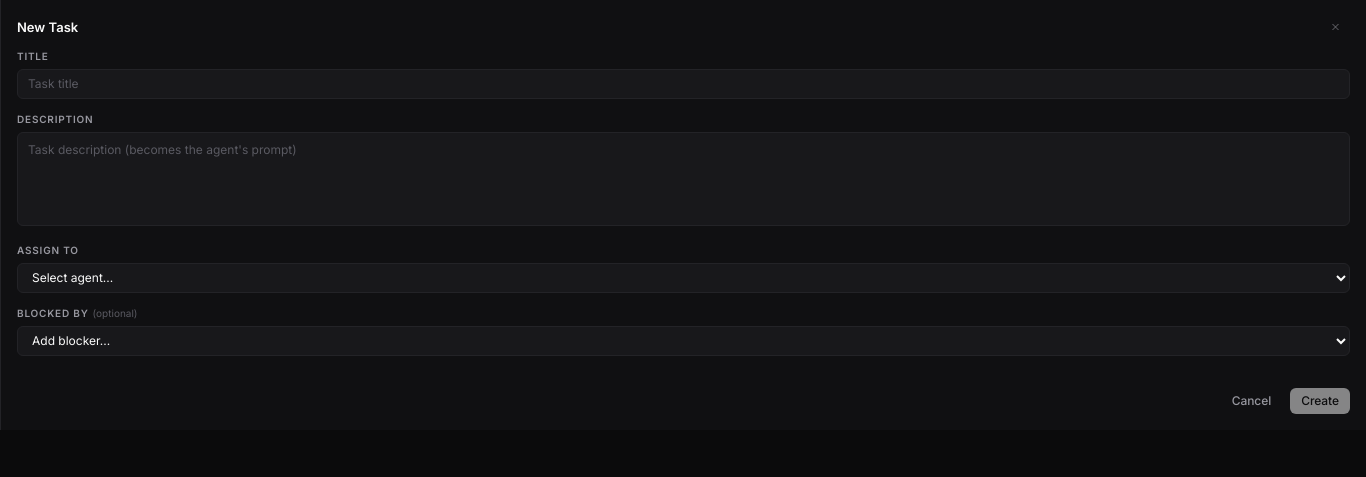
Test case: CreateTaskSidebar › truncates the blocker id shown on the chip to 8 characters
Select "Long id task (0123456789abcdef)" in the dropdown with id "task-blockers": (684, 341) [17,326,1350,356]
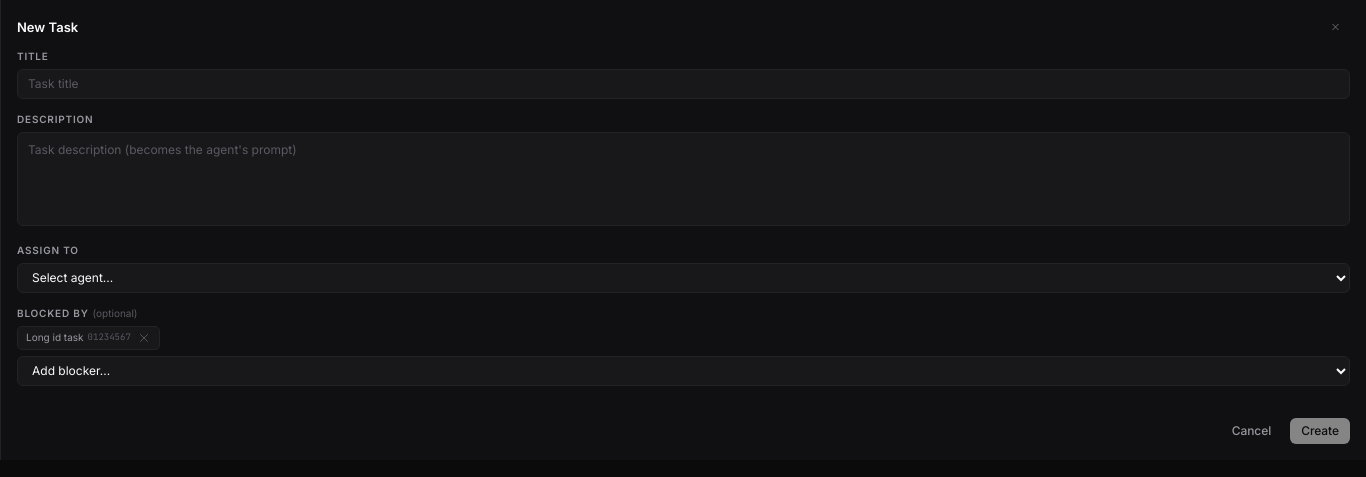
Result: the element with class "items-center" shows "Long id task" at [26,331,84,343]
Result: the element with class "items-center" shows "01234567" at [88,331,131,343]
